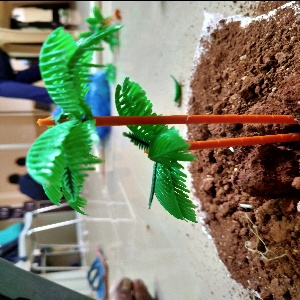plant: (22, 25, 104, 213), (110, 78, 199, 219)
